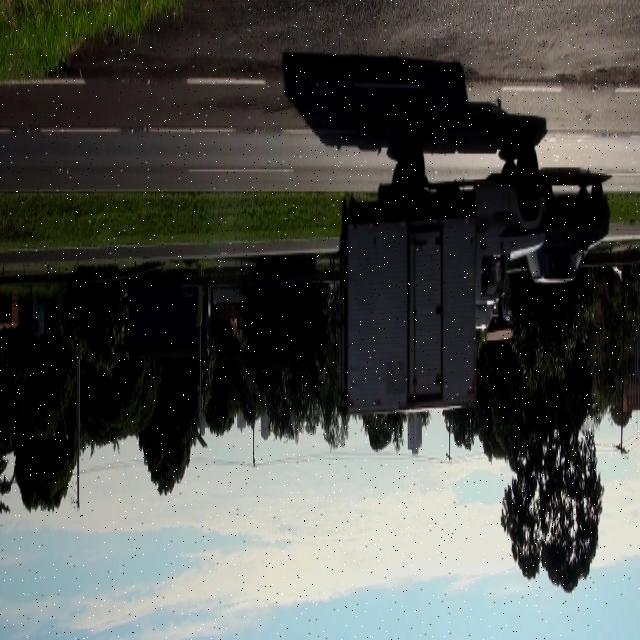-axle: (398, 135, 427, 214), (515, 142, 542, 221)
